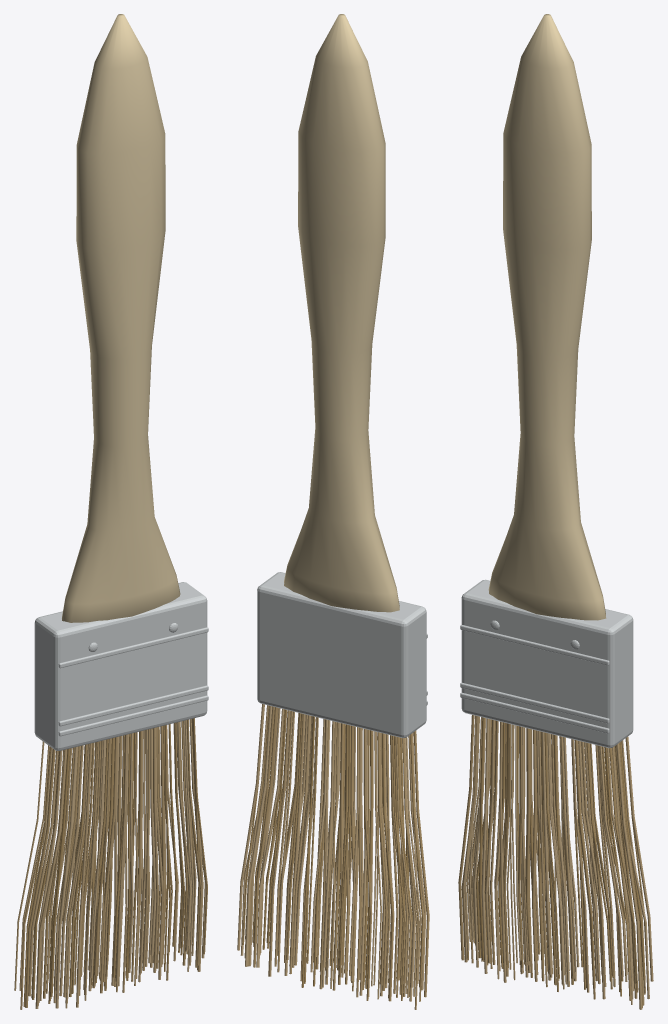
The model's file is brush.3384c40bb82d.glb.
3 renders of one model, left to right at view 1: azimuth 30°, elevation 25°; view 2: azimuth 150°, elevation 25°; view 3: azimuth 330°, elevation 25°, orthographic.
Parts seen in each view (by area): view 1: Flat wooden pastry brush; view 2: Flat wooden pastry brush; view 3: Flat wooden pastry brush.
Part boxes in pixels (x1,y1,x2,y2): Flat wooden pastry brush: (14,14,208,1009); Flat wooden pastry brush: (237,14,429,1009); Flat wooden pastry brush: (458,14,653,1009).
Bounding box in the file's own units: 0.4808 × 2.45 × 0.1475.
